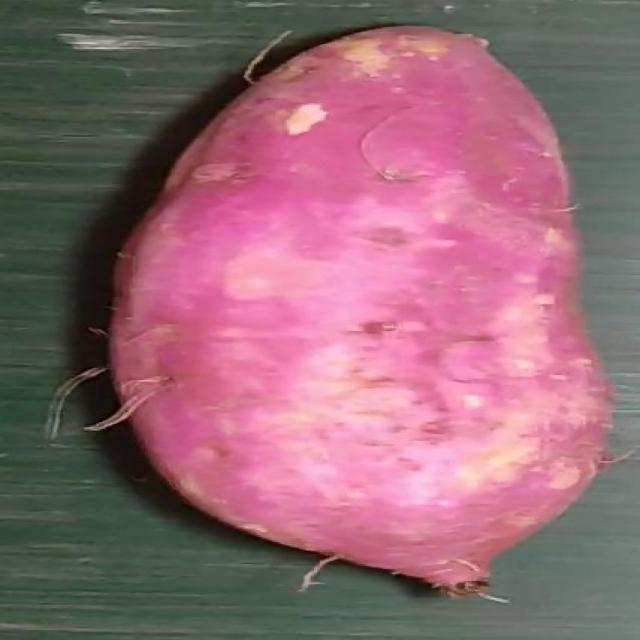Sweet Potato: (100, 25, 616, 599)
